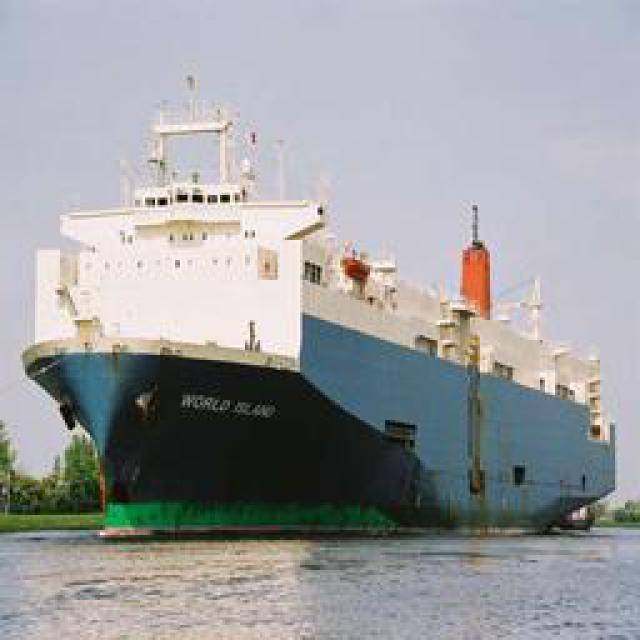Ship: (22, 69, 325, 459)
